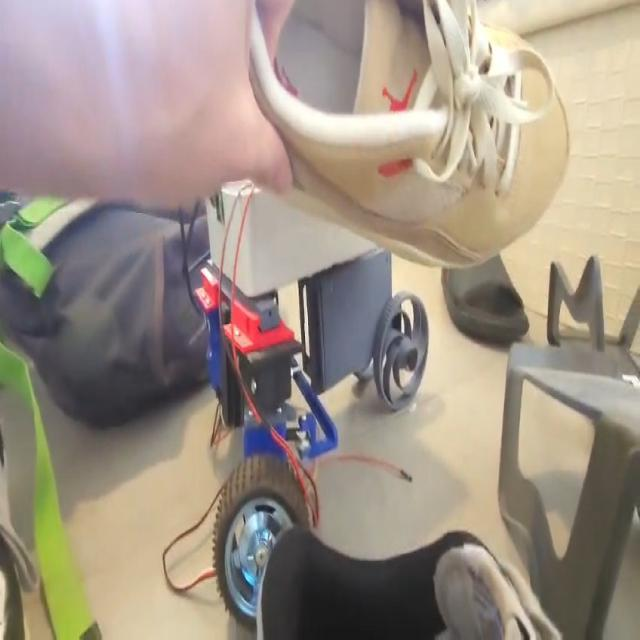Robot: (193, 176, 428, 640)
